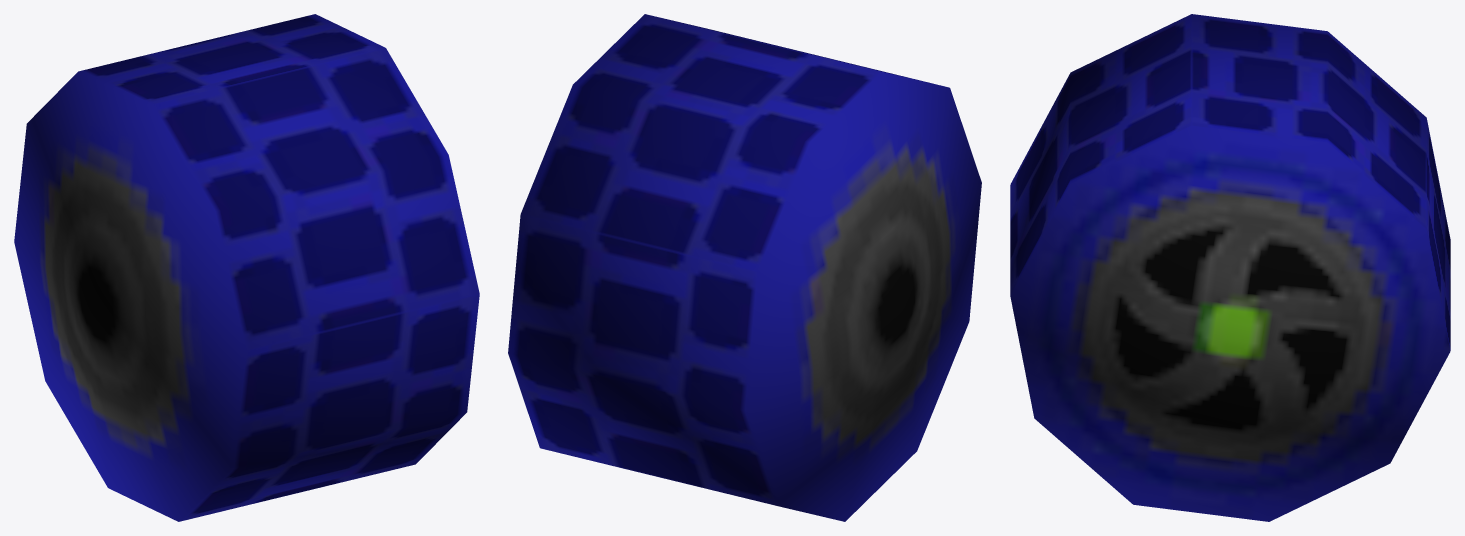
Rendered from wheel.obj.
The picture shows the model from 3 angles, left to right: view 1: azimuth 30°, elevation 25°; view 2: azimuth 150°, elevation 25°; view 3: azimuth 270°, elevation 25°; orthographic projection. The views are drawn at different scales.
Bounding box in the file's own units: 3.41 × 4.6 × 4.63.
